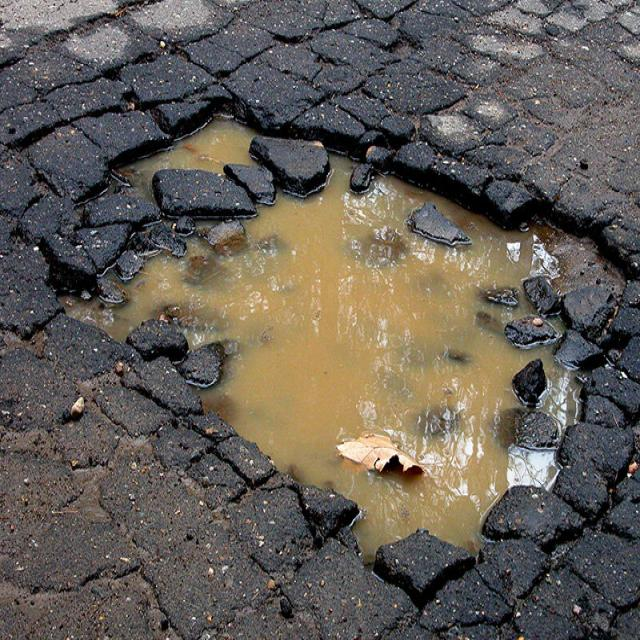Pothole: (40, 83, 581, 640)
